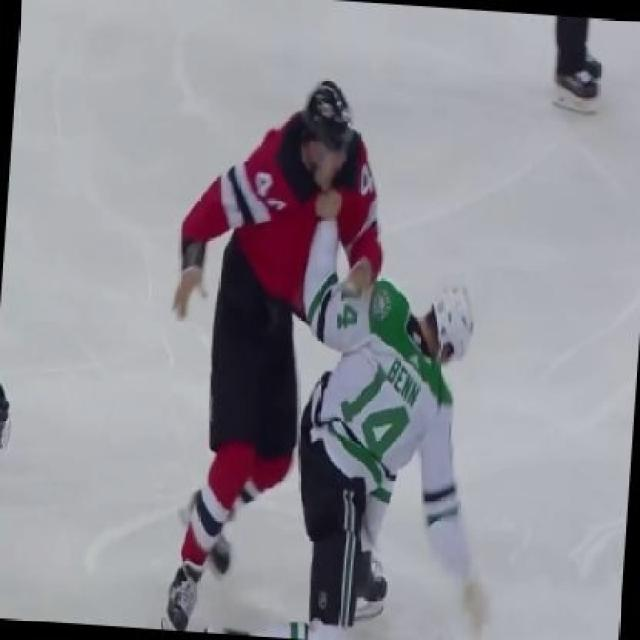fight: (148, 65, 472, 637)
